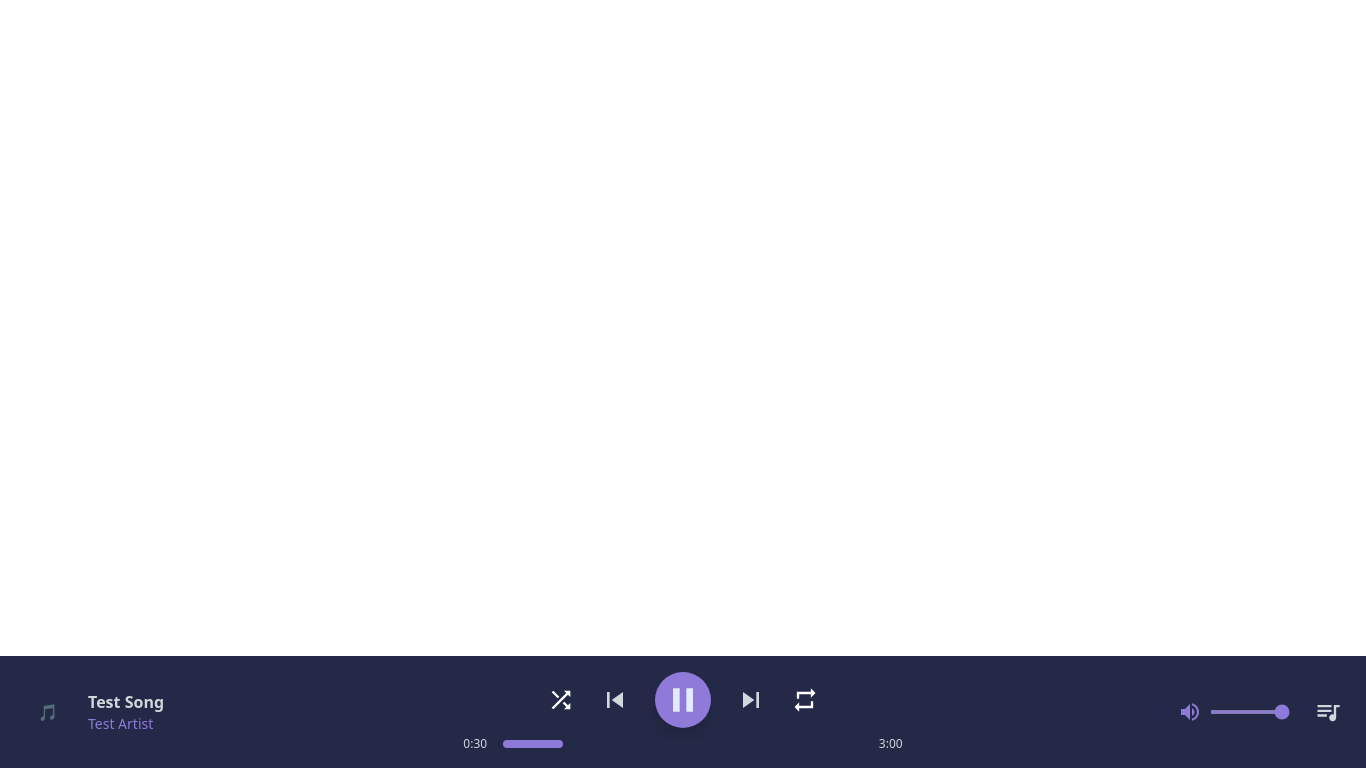
Player › should toggle shuffle on click
Click the button titled "Shuffle: Off". click: (561, 700)
box: [547, 686, 575, 714]
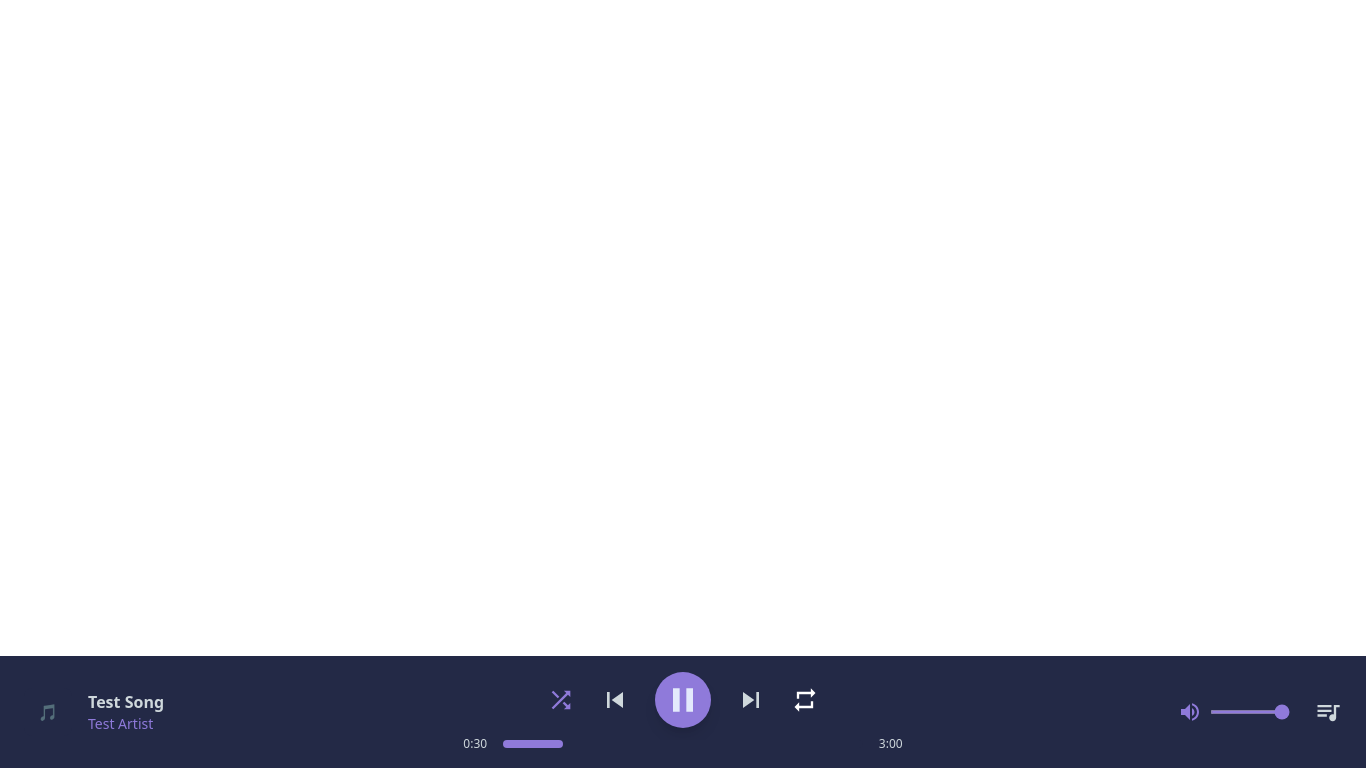
Check: the button titled "Shuffle: On" is shown, box [547, 686, 575, 714]
